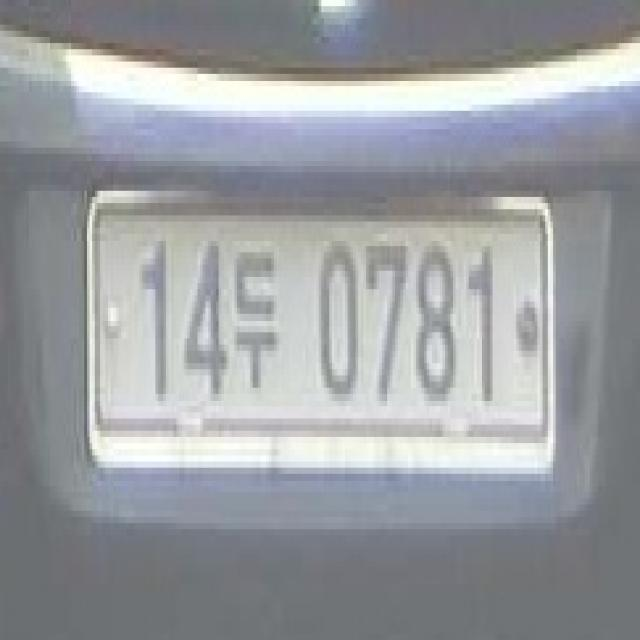0: (313, 228, 361, 406)
1: (134, 222, 179, 418), (464, 222, 503, 418)
4: (184, 228, 232, 424)
7: (361, 228, 408, 412)
9: (408, 227, 461, 418)
du: (232, 234, 279, 412)
license_plate: (82, 178, 556, 498)
